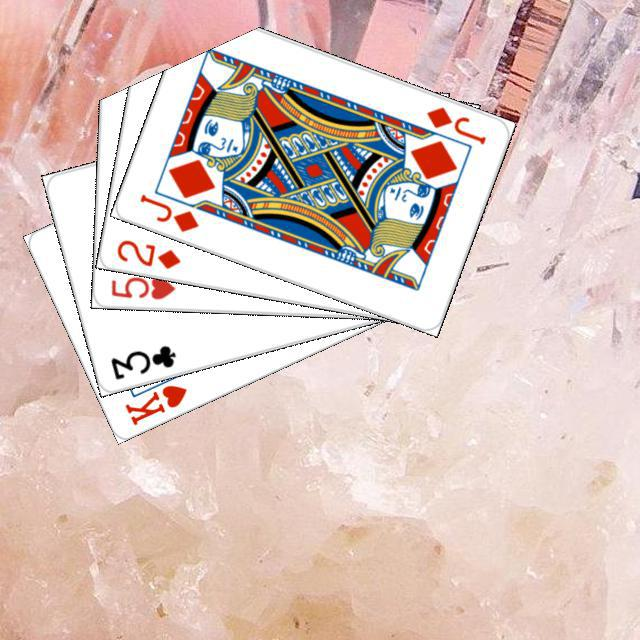2d: (112, 235, 182, 271)
3c: (106, 340, 178, 382)
5h: (106, 272, 177, 301)
Jd: (421, 101, 488, 147), (135, 188, 201, 234)
Kh: (119, 366, 189, 427)
